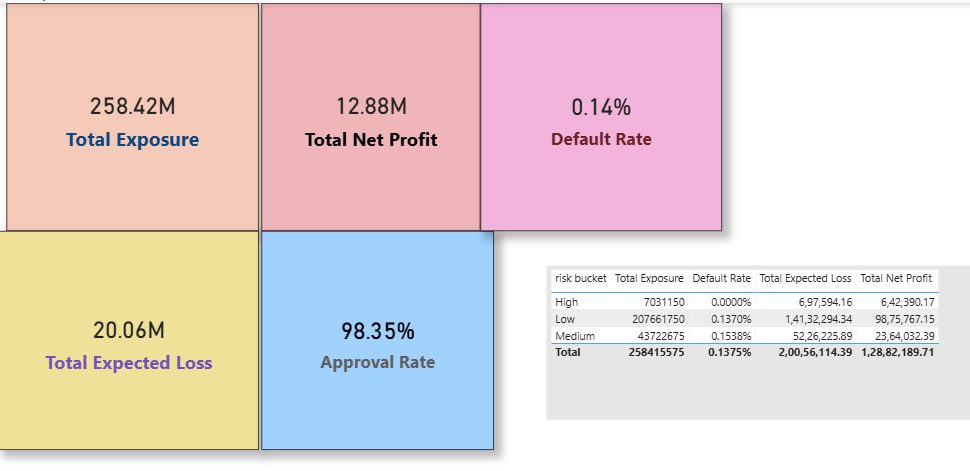

The page's visual inventory and layout, read from the dashboard file:
{"tool":"powerbi","page":{"name":"PORTFOLIO KPIs","canvas":[1280,720],"ordinal":0},"visuals":[{"type":"card","fields":{"Values":["AI DRIVEN CREDIT RISK ANALYSIS.Total Exposure"]},"box":[9.3,0,312.4,282.7],"z":0},{"type":"card","fields":{"Values":["AI DRIVEN CREDIT RISK ANALYSIS.Total Expected Loss"]},"box":[0,282.7,321.7,271.5],"z":1000},{"type":"card","fields":{"Values":["AI DRIVEN CREDIT RISK ANALYSIS.Total Net Profit"]},"box":[325.4,0,271.5,282.7],"z":2000},{"type":"card","fields":{"Values":["AI DRIVEN CREDIT RISK ANALYSIS.Approval Rate"]},"box":[325.4,282.7,288.2,271.5],"z":3000},{"type":"card","fields":{"Values":["AI DRIVEN CREDIT RISK ANALYSIS.Default Rate"]},"box":[596.9,0,299.4,282.7],"z":4000},{"type":"tableEx","fields":{"Values":["AI DRIVEN CREDIT RISK ANALYSIS.risk bucket","AI DRIVEN CREDIT RISK ANALYSIS.Total Exposure","AI DRIVEN CREDIT RISK ANALYSIS.Default Rate","AI DRIVEN CREDIT RISK ANALYSIS.Total Expected Loss","AI DRIVEN CREDIT RISK ANALYSIS.Total Net Profit"]},"box":[678.7,325.4,546.7,191.5],"z":4001}]}

Visuals, with their boxes on the page's 1280x720 design canvas (x1, y1, x2, y2). These are canvas units, not pixel positions in the 970x471 screenshot, which may show the page scaled, cropped or inside an application window:
card - AI DRIVEN CREDIT RISK ANALYSIS.Total Exposure: 9, 0, 322, 283
card - AI DRIVEN CREDIT RISK ANALYSIS.Total Expected Loss: 0, 283, 322, 554
card - AI DRIVEN CREDIT RISK ANALYSIS.Total Net Profit: 325, 0, 597, 283
card - AI DRIVEN CREDIT RISK ANALYSIS.Approval Rate: 325, 283, 614, 554
card - AI DRIVEN CREDIT RISK ANALYSIS.Default Rate: 597, 0, 896, 283
tableEx - AI DRIVEN CREDIT RISK ANALYSIS.risk bucket x AI DRIVEN CREDIT RISK ANALYSIS.Total Exposure: 679, 325, 1225, 517
